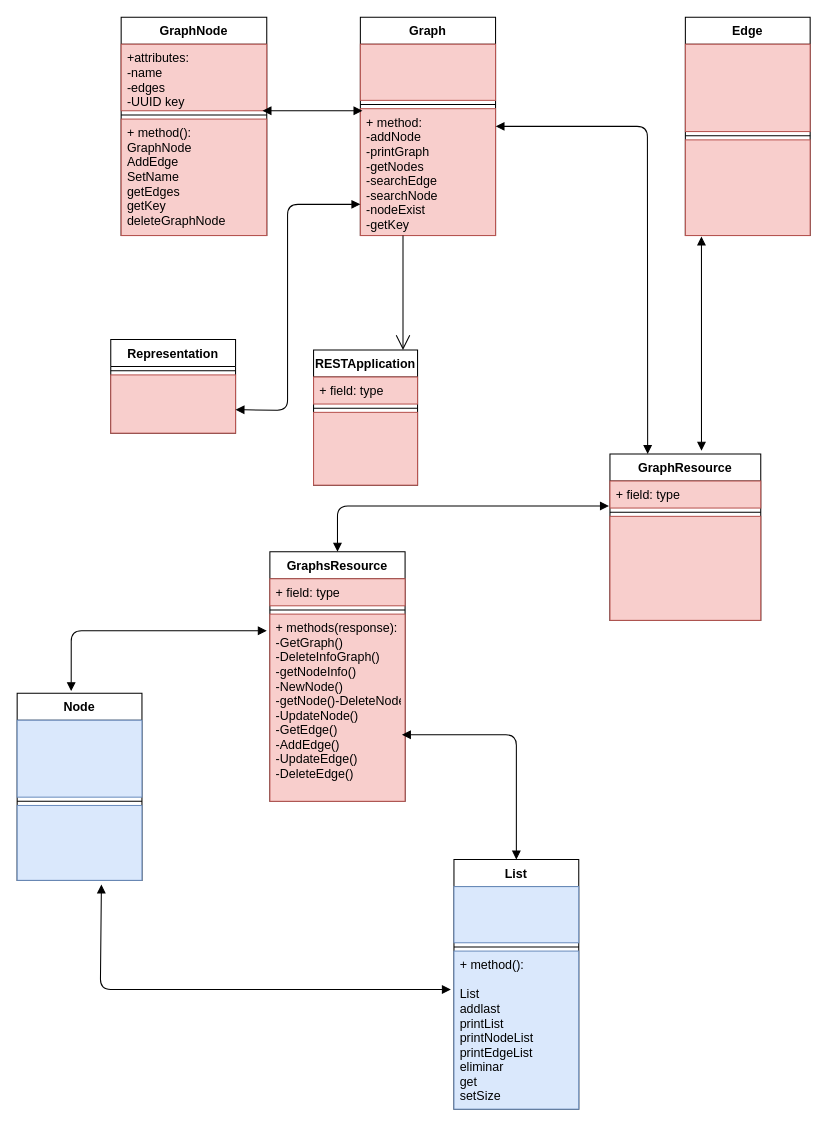
The diagram is 827 pixels wide and 1126 high, and some of its shapes have lost their labels. The shapes that lost their labels are listed below. From the top down, each one's centre as x and y in pixels, then its label:
At point (427, 71): "+ attributes: Lista nodes UUID key".
At point (747, 87): "+ attributes: Graph origin Graph destination double distance UUID edgeKey".
At point (747, 187): "+ method: printEdges() getEdgeKey() getDistance() setDistance()".
At point (173, 403): "+ method(): Graph getNames SetUp".
At point (365, 448): "+ method: getClases()".
At point (685, 567): "+ methods(response): - getGraphData + method(): -GraphResource()".
At point (79, 758): "+ attributes: next data prev".
At point (79, 842): "+method(): GetNetxt add GetData".
At point (516, 914): "+ attributes: head size".
